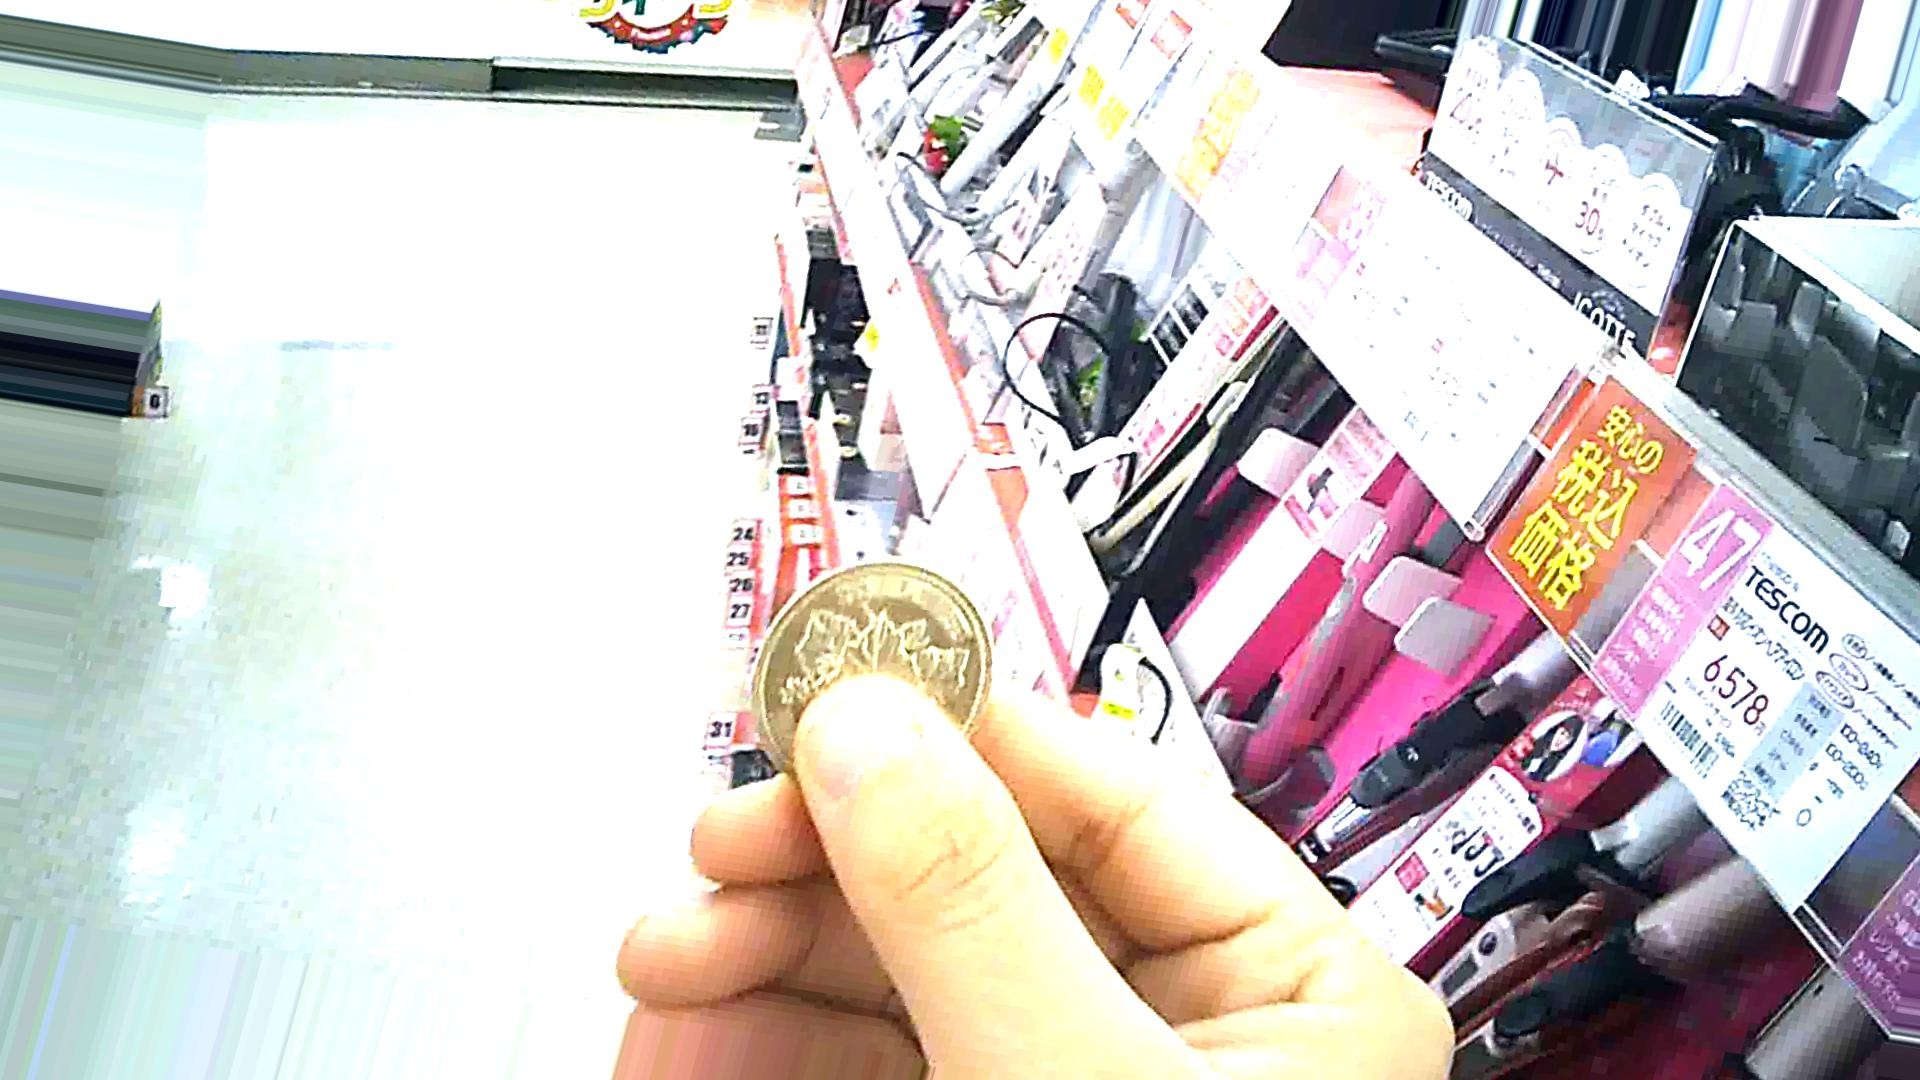500 Yen: (746, 556, 1011, 756)
